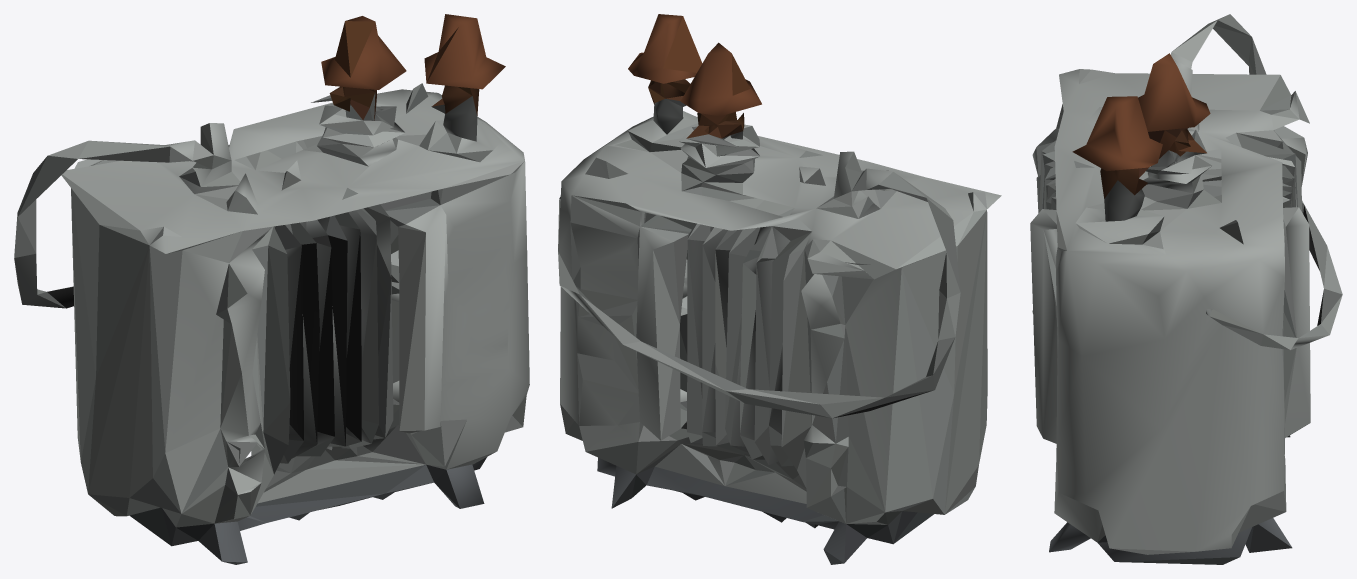
File: eb_transformer.glb
3 views of the same model, side by side, from view 1: azimuth 30°, elevation 25°; view 2: azimuth 150°, elevation 25°; view 3: azimuth 270°, elevation 25° (orthographic). The views are drawn at different scales.
Visible parts, largest first — view 1: tank; view 2: tank; view 3: tank.
Boxes of the visible parts, x1,y1,x2,y2 form: tank: [14, 14, 529, 564]; tank: [558, 14, 1001, 564]; tank: [1030, 14, 1342, 564].
Bounding box in the file's own units: 1.74 × 1.71 × 1.04.
